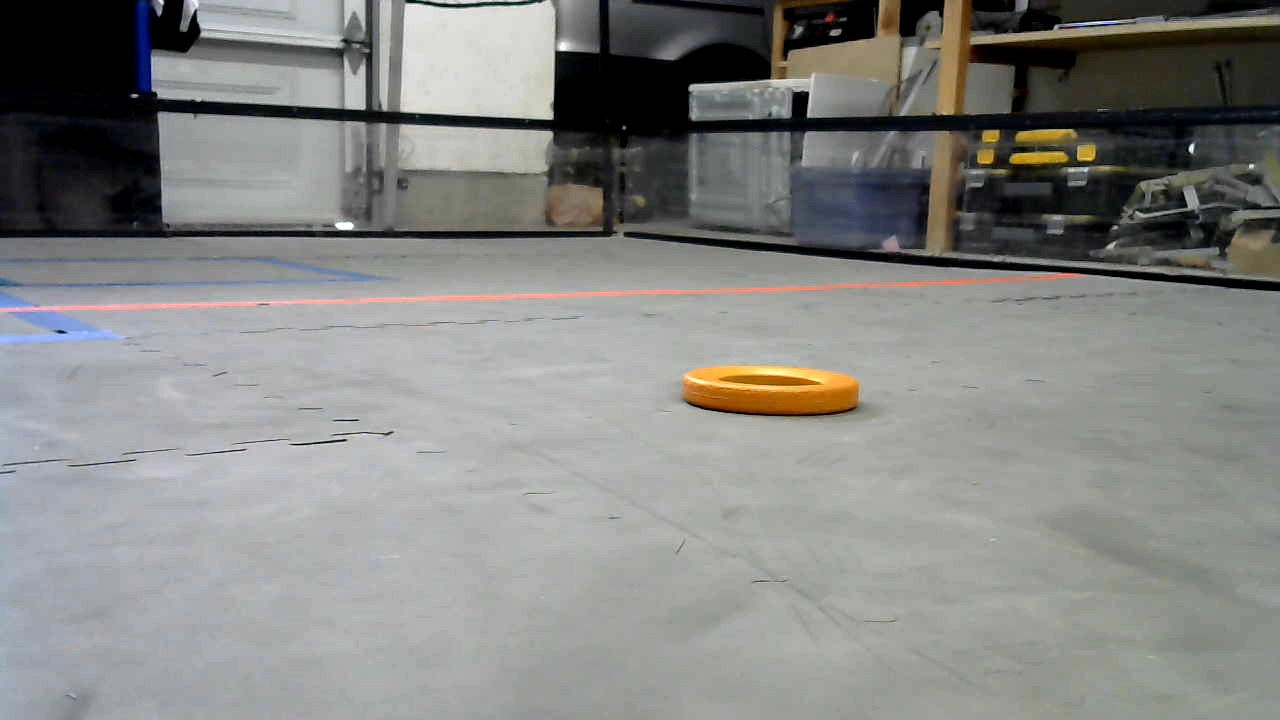OneStack: (683, 363, 859, 418)
